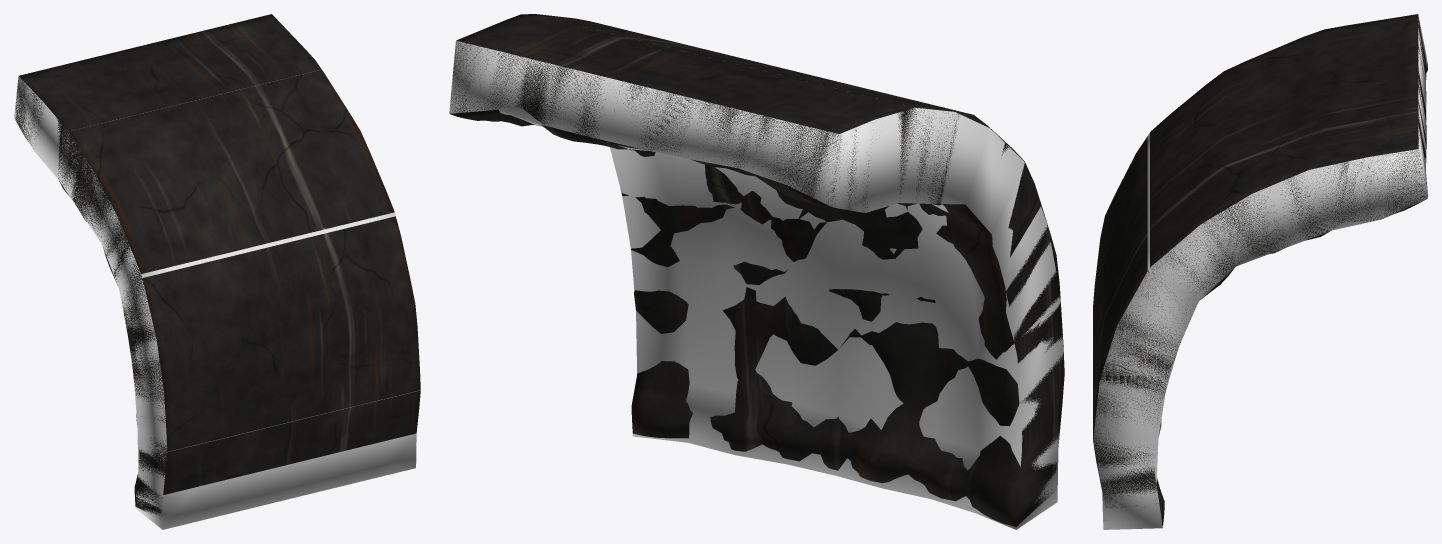
Rendered from CAVE_Wall_A.fbx.
3 views of the same model, side by side, from view 1: azimuth 30°, elevation 25°; view 2: azimuth 150°, elevation 25°; view 3: azimuth 270°, elevation 25° (orthographic). The views are drawn at different scales.
Parts seen in each view (by area): view 1: CAVE_Wall_A_LOD0, CAVE_Wall_A_COL; view 2: CAVE_Wall_A_COL, CAVE_Wall_A_LOD0; view 3: CAVE_Wall_A_LOD0, CAVE_Wall_A_COL.
Boxes of the visible parts, <box> form: CAVE_Wall_A_LOD0: <box>14,14,420,516</box>; CAVE_Wall_A_COL: <box>14,72,419,529</box>; CAVE_Wall_A_COL: <box>449,40,1063,529</box>; CAVE_Wall_A_LOD0: <box>449,14,1064,526</box>; CAVE_Wall_A_LOD0: <box>1093,14,1427,525</box>; CAVE_Wall_A_COL: <box>1093,15,1427,529</box>.
Size of what is drawn, in the model's own units: 6.18 by 8.13 by 6.47.
